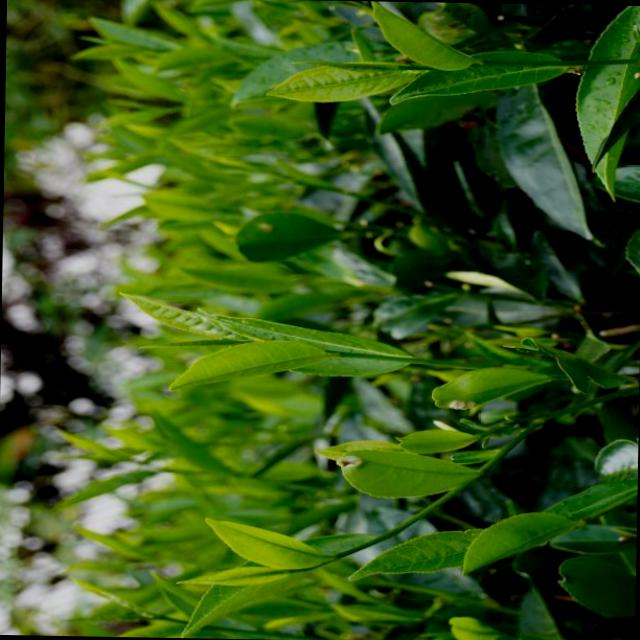Stem: (335, 351, 345, 357), (480, 60, 488, 65), (335, 554, 340, 558)
